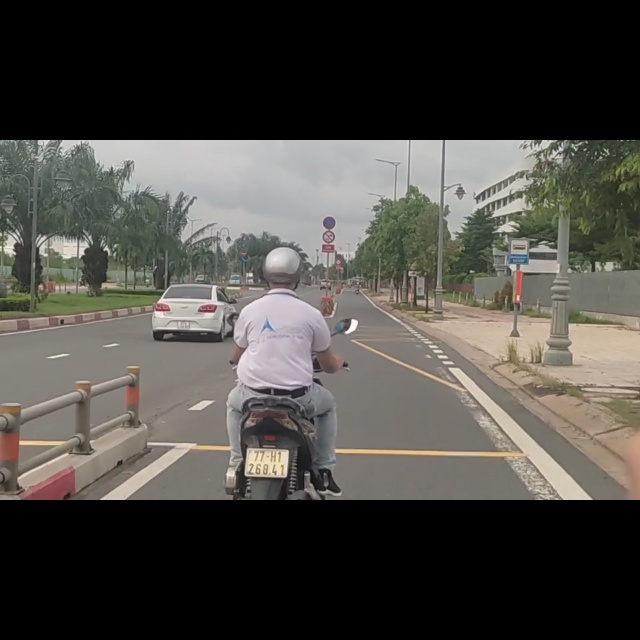bien_hieu_lenh: (508, 175, 529, 222), (322, 160, 335, 185), (323, 134, 336, 159)
